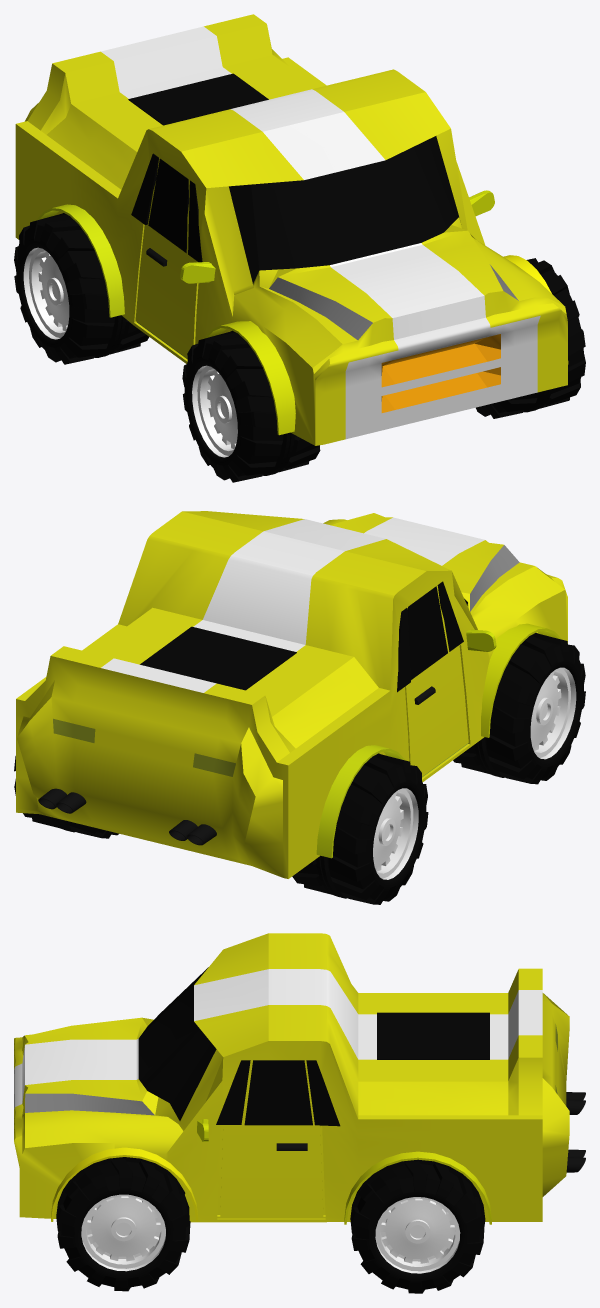
The model's file is Car 1.fbx.
The picture shows the model from 3 angles, top to bottom: view 1: azimuth 30°, elevation 25°; view 2: azimuth 150°, elevation 25°; view 3: azimuth 270°, elevation 25°; orthographic projection. The views are drawn at different scales.
Visible parts, largest first — view 1: Cube, Cylinder.007, Cylinder.006, Cube.002, Cylinder, wadah ban.001, Cube.008, wadah ban.002, Cube.006, Cube.007, Cube.010; view 2: Cube, Cylinder.006, Cylinder.007, Cube.002, Cube.008, wadah ban.002, wadah ban.001, Cube.006, Cylinder.005, Cube.007, Cube.010; view 3: Cube, Cylinder.005, Cylinder, Cube.002, Cube.003, wadah ban, wadah ban.003, Cube.005, Cube.004.
Part boxes in pixels (x1,y1,x2,y2): Cube: (15,14,567,445); Cylinder.007: (182,330,320,482); Cylinder.006: (14,213,148,364); Cube.002: (128,73,268,125); Cylinder: (476,258,585,418); wadah ban.001: (205,321,295,435); Cube.008: (148,158,188,253); wadah ban.002: (37,204,124,317); Cube.006: (131,153,158,224); Cube.007: (188,180,202,262); Cube.010: (180,262,215,283); Cube: (16,511,567,878); Cylinder.006: (292,753,428,904); Cylinder.007: (453,633,585,784); Cube.002: (140,626,296,690); Cube.008: (407,586,447,679); wadah ban.002: (316,745,404,858); wadah ban.001: (481,623,561,737); Cube.006: (397,608,410,692); Cylinder.005: (14,756,118,838); Cube.007: (437,581,463,651); Cube.010: (466,629,496,651); Cube: (14,933,569,1222); Cylinder.005: (350,1159,485,1293); Cylinder: (56,1157,190,1291); Cube.002: (377,1012,489,1059); Cube.003: (244,1060,312,1125); wadah ban: (51,1147,198,1221); wadah ban.003: (344,1151,491,1224); Cube.005: (306,1060,340,1126); Cube.004: (216,1060,250,1124).
Bounding box in the file's own units: 673 × 468 × 1043.
